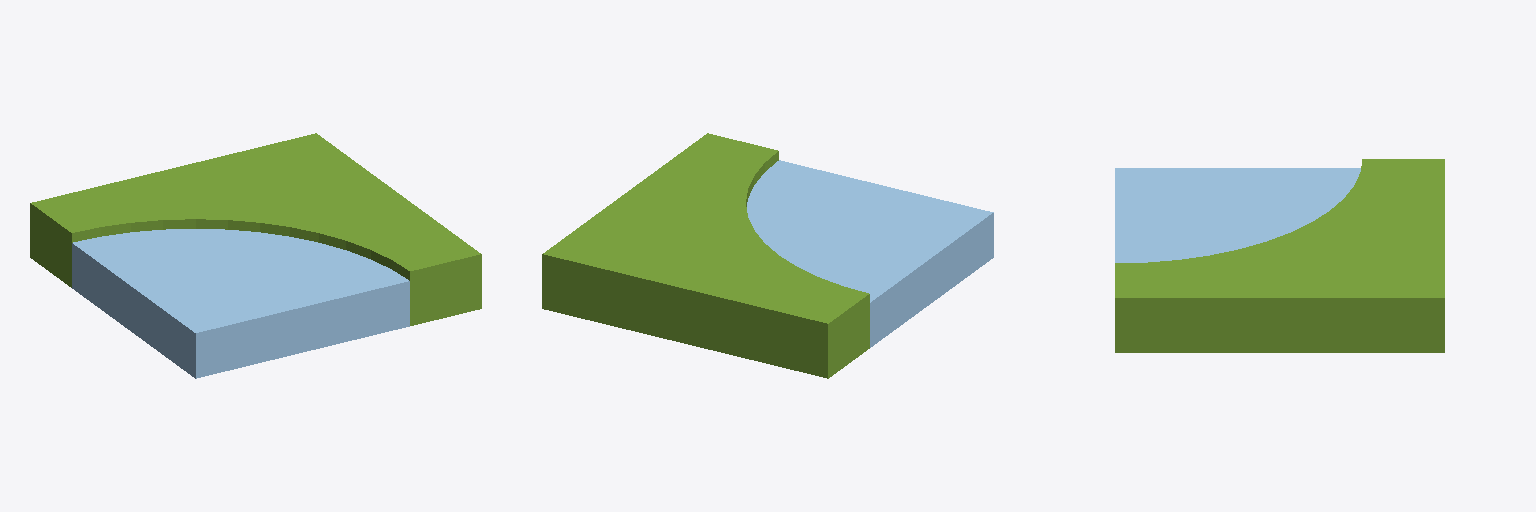
The model's file is tile115.obj.
The picture shows the model from 3 angles: view 1: azimuth 30°, elevation 25°; view 2: azimuth 150°, elevation 25°; view 3: azimuth 270°, elevation 25°; orthographic projection.
Visible parts, largest first — view 1: tile115; view 2: tile115; view 3: tile115.
Boxes of the visible parts, <box> form: tile115: <box>30,133,481,378</box>; tile115: <box>542,133,993,378</box>; tile115: <box>1115,159,1444,352</box>.
Size of the model in its own units: 1 by 0.1833 by 1.